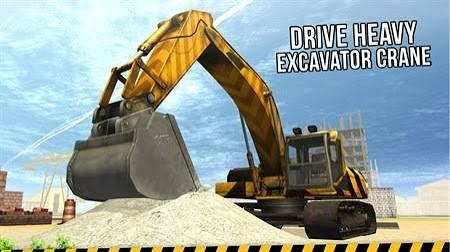excavator: (58, 8, 410, 237)
